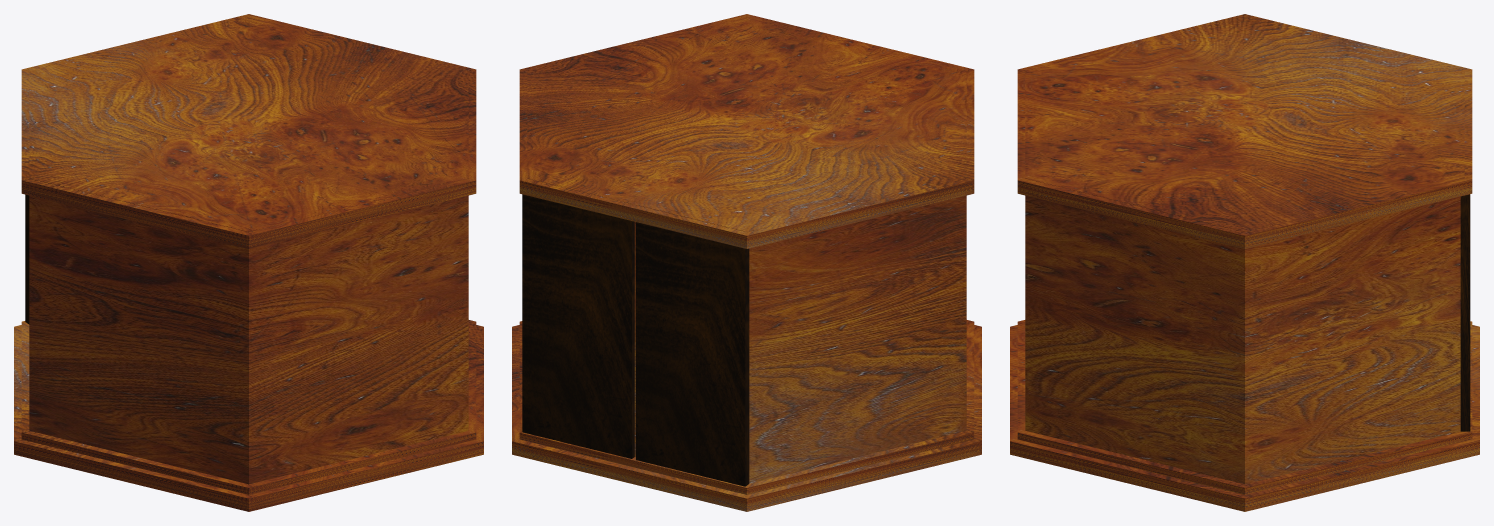
Rendered from hexagontable.dae.
3 views of the same model, side by side, from view 1: azimuth 30°, elevation 25°; view 2: azimuth 150°, elevation 25°; view 3: azimuth 270°, elevation 25° (orthographic).
Visible parts, largest first — view 1: node; view 2: node; view 3: node.
Part boxes in pixels (bbox=[...]): node: bbox=[14, 14, 483, 511]; node: bbox=[512, 14, 981, 511]; node: bbox=[1010, 14, 1479, 511].
Bounding box in the file's own units: 0.9451 × 0.524 × 0.8184.
2 materials, 2 textured.
